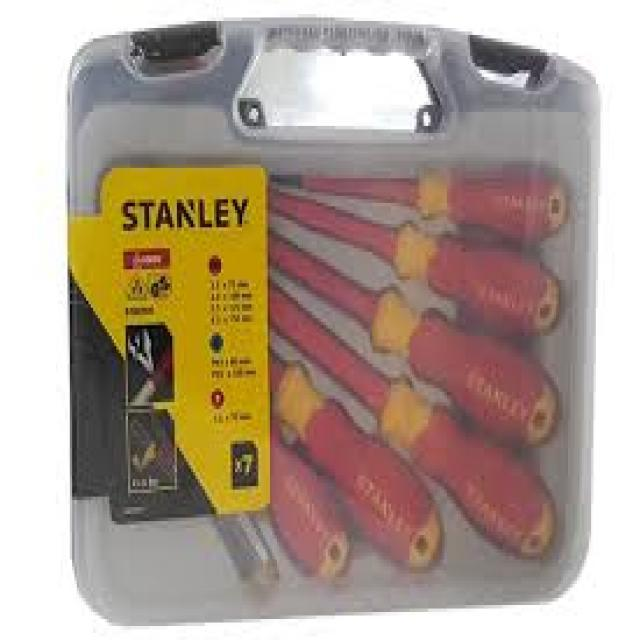screwdriver: (266, 161, 569, 245)
